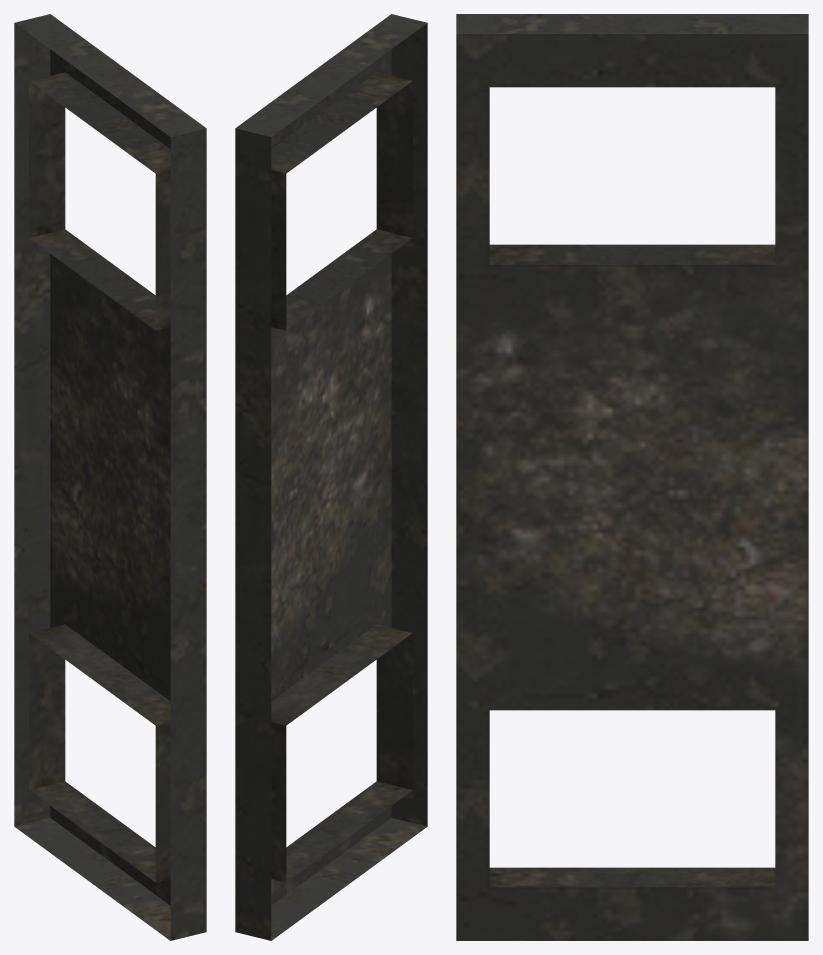
The model's file is Vertical_Long_WallTrims.FBX.
3 views of the same model, side by side, from view 1: azimuth 30°, elevation 25°; view 2: azimuth 150°, elevation 25°; view 3: azimuth 270°, elevation 25° (orthographic). The views are drawn at different scales.
Parts seen in each view (by area): view 1: Vertical_Long_WallTrims; view 2: Vertical_Long_WallTrims; view 3: Vertical_Long_WallTrims.
Part boxes in pixels (<box>): Vertical_Long_WallTrims: <box>14,14,206,940</box>; Vertical_Long_WallTrims: <box>235,14,427,940</box>; Vertical_Long_WallTrims: <box>456,14,808,940</box>.
Bounding box in the file's own units: 35 × 744 × 262.
